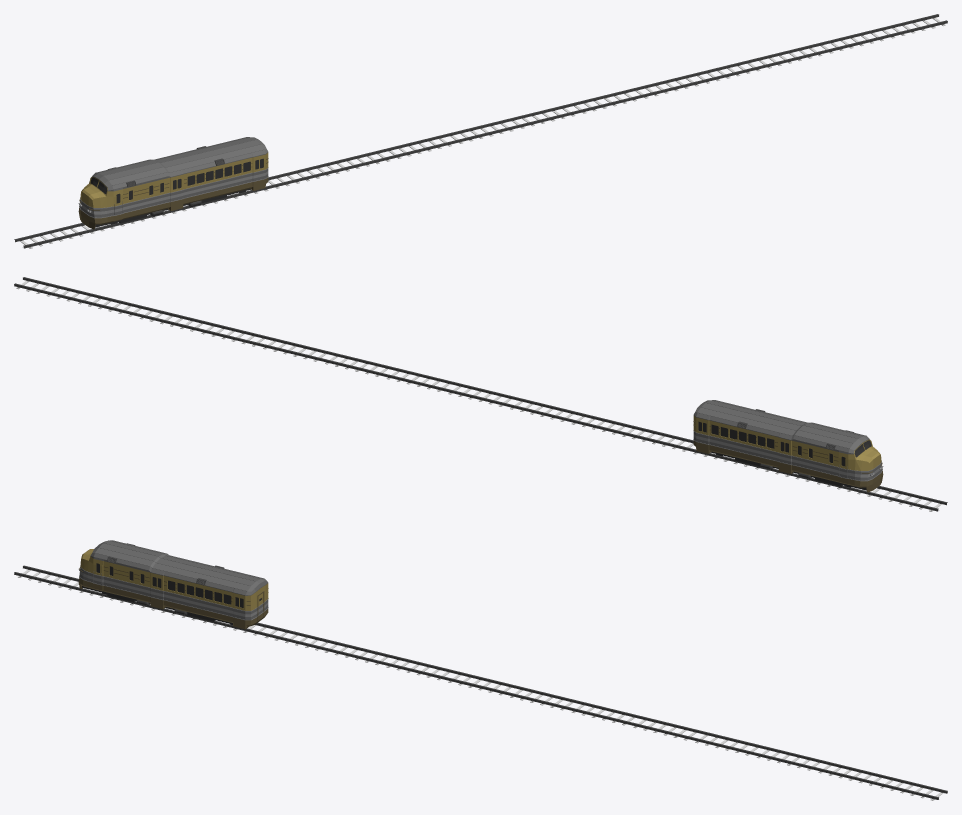
File: trainScene.glb
3 renders of one model, top to bottom at view 1: azimuth 30°, elevation 25°; view 2: azimuth 150°, elevation 25°; view 3: azimuth 330°, elevation 25°, orthographic.
Visible parts, largest first — view 1: Train, RailwayTrack_Straight.002, RailwayTrack_Straight.001, RailwayTrack_Straight; view 2: Train, RailwayTrack_Straight.002, RailwayTrack_Straight.001, RailwayTrack_Straight; view 3: Train, RailwayTrack_Straight.002, RailwayTrack_Straight.001, RailwayTrack_Straight.
Part boxes in pixels (x1,y1,x2,y2): Train: (78,137,268,229); RailwayTrack_Straight.002: (630,14,947,98); RailwayTrack_Straight.001: (322,89,639,173); RailwayTrack_Straight: (14,164,332,248); Train: (693,400,883,492); RailwayTrack_Straight.002: (14,277,331,361); RailwayTrack_Straight.001: (322,352,639,436); RailwayTrack_Straight: (630,427,947,511); Train: (78,540,268,629); RailwayTrack_Straight.002: (629,715,947,800); RailwayTrack_Straight.001: (322,640,638,725); RailwayTrack_Straight: (14,565,331,650).
Size of the model in its own units: 53.9 by 2.75 by 2.15.
